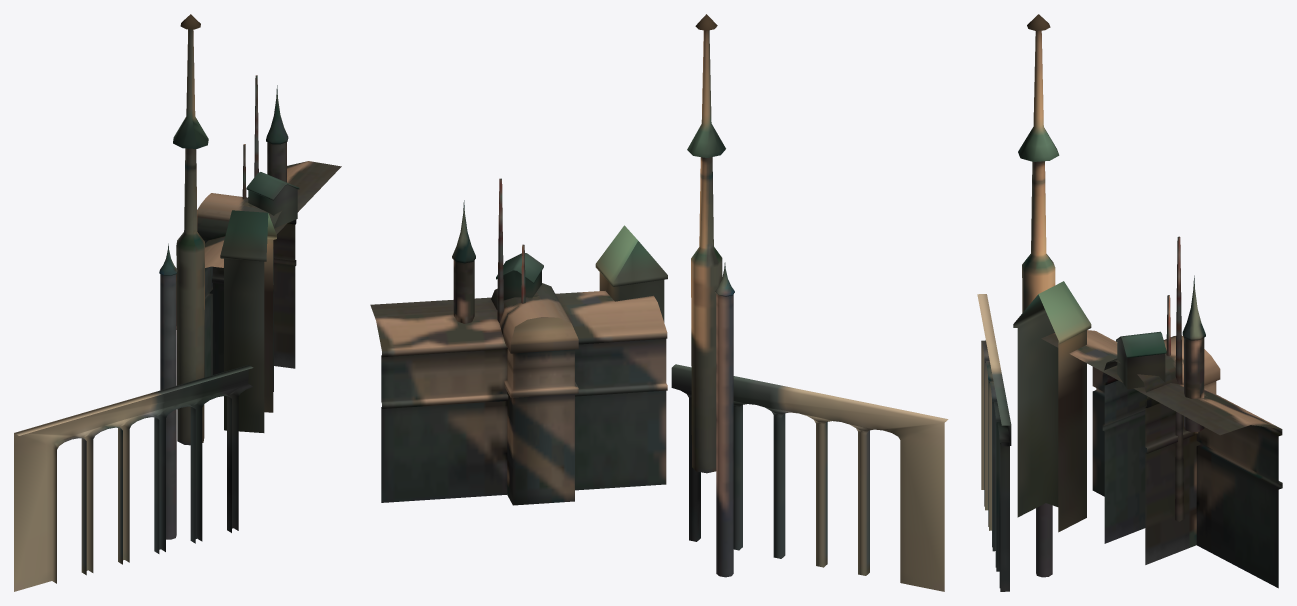
The model's file is sc_xcb_yj07_02_um.fbx.
3 renders of one model, left to right at view 1: azimuth 30°, elevation 25°; view 2: azimuth 150°, elevation 25°; view 3: azimuth 270°, elevation 25°, orthographic. The views are drawn at different scales.
Parts seen in each view (by area): view 1: sc_xcb_yj07_02; view 2: sc_xcb_yj07_02; view 3: sc_xcb_yj07_02.
Boxes of the visible parts, x1,y1,x2,y2 form: sc_xcb_yj07_02: (14,14,341,591); sc_xcb_yj07_02: (370,14,948,591); sc_xcb_yj07_02: (977,14,1282,591).
Bounding box in the file's own units: 68305 × 78152 × 37926.
